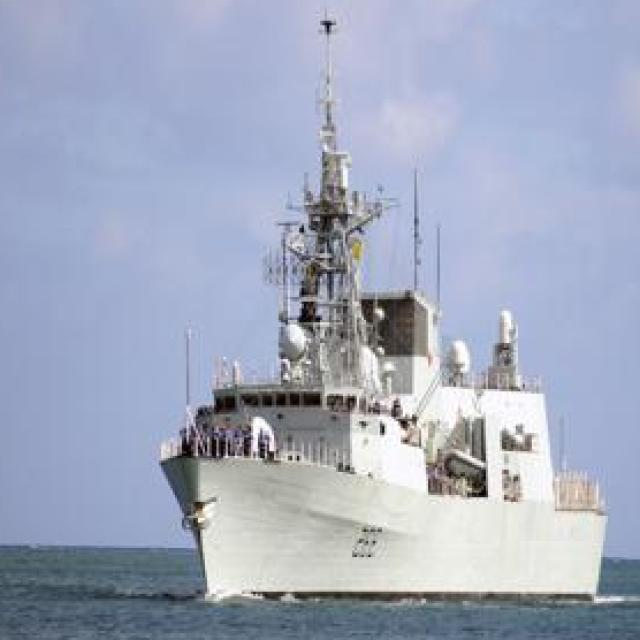navalvessels: (120, 5, 616, 610)
